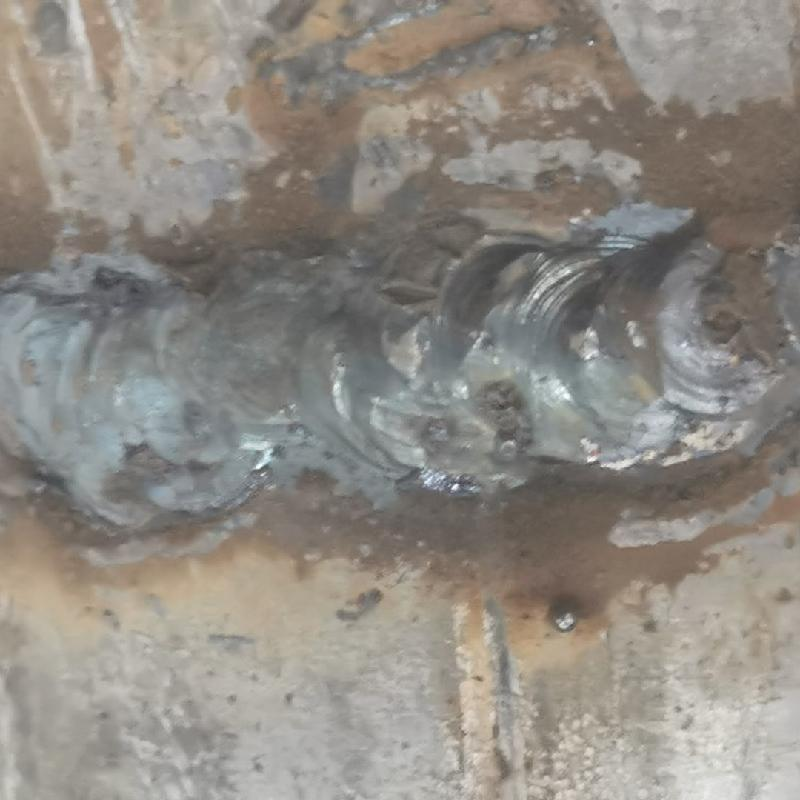good: (3, 214, 799, 524)
